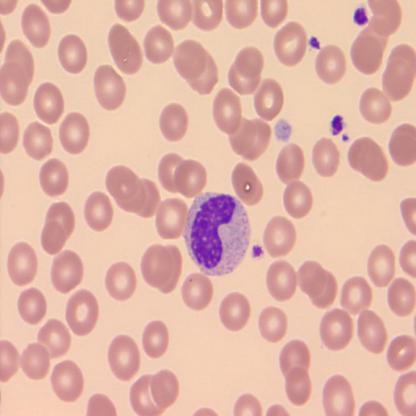Metamyelocyte: (182, 187, 252, 278)
